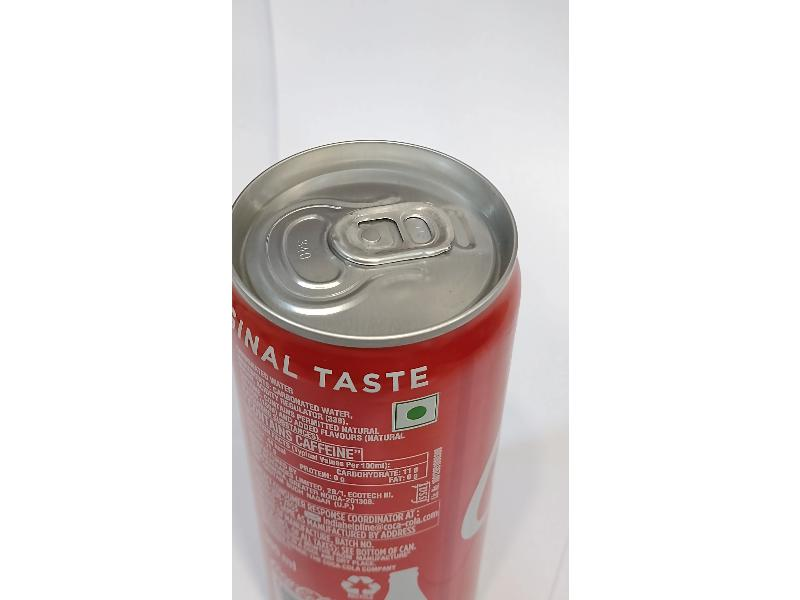can: (227, 127, 528, 559)
